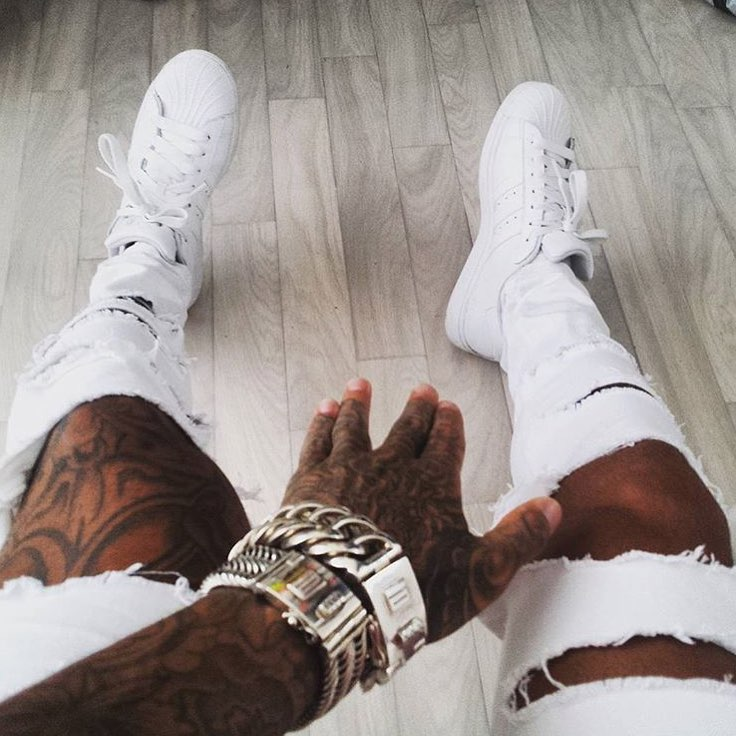sneaker: (426, 70, 632, 366), (91, 39, 258, 326)
